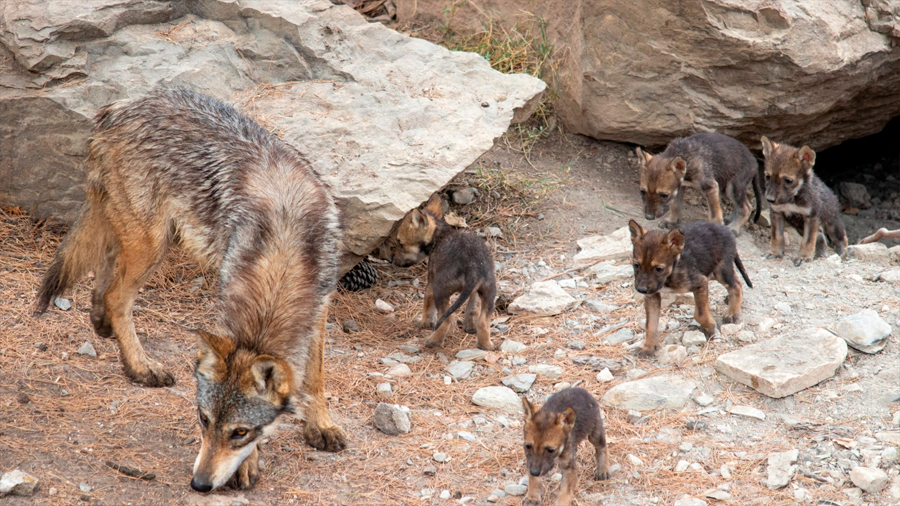Lobo: (51, 84, 351, 489), (391, 191, 511, 353), (642, 124, 767, 247), (632, 232, 756, 349), (515, 373, 625, 489), (759, 126, 849, 256)
